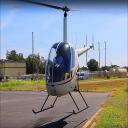helicopter: (33, 1, 124, 117)
